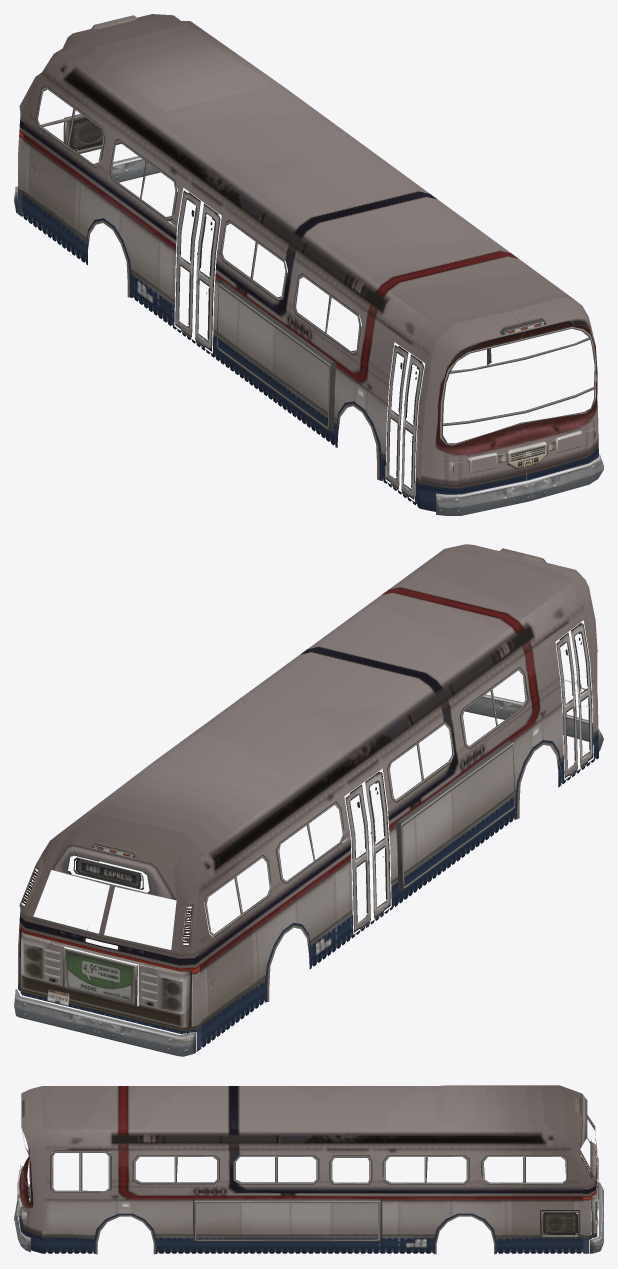
File: car-HEVY_Car9.glb
The picture shows the model from 3 angles, top to bottom: view 1: azimuth 30°, elevation 25°; view 2: azimuth 150°, elevation 25°; view 3: azimuth 270°, elevation 25°; orthographic projection. The views are drawn at different scales.
Parts seen in each view (by area): view 1: HEVY_Car9; view 2: HEVY_Car9; view 3: HEVY_Car9.
Part boxes in pixels (<box>): HEVY_Car9: <box>14,14,603,515</box>; HEVY_Car9: <box>14,544,603,1056</box>; HEVY_Car9: <box>14,1085,603,1254</box>.
Size of the model in its own units: 2.67 by 2.52 by 10.77.
4 materials, 4 textured.
